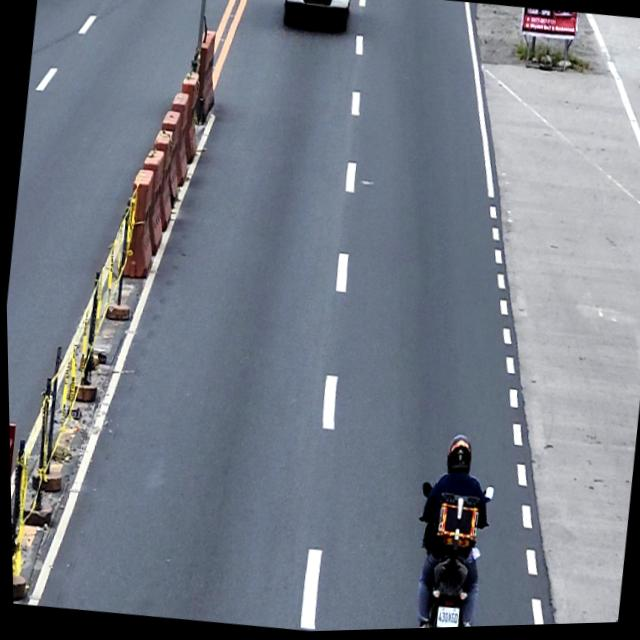Car: (280, 0, 353, 34)
License-Plate: (431, 605, 457, 630)
Motorcycle: (401, 480, 494, 631)
